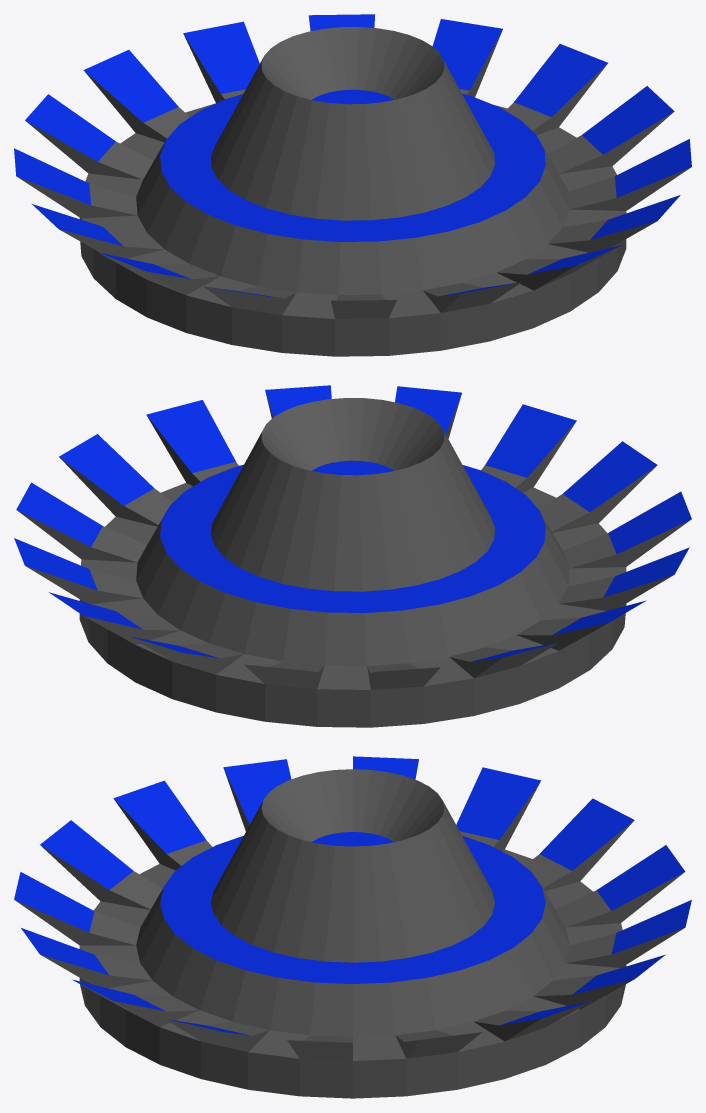
The model's file is ObjectSpawner.fbx.
3 renders of one model, top to bottom at view 1: azimuth 30°, elevation 25°; view 2: azimuth 150°, elevation 25°; view 3: azimuth 270°, elevation 25°, orthographic.
Visible parts, largest first — view 1: ObjectSpawner; view 2: ObjectSpawner; view 3: ObjectSpawner.
Part boxes in pixels (x1,y1,x2,y2): ObjectSpawner: (14,14,691,356); ObjectSpawner: (14,385,691,727); ObjectSpawner: (14,756,691,1098).
Size of the model in its own units: 686 by 196 by 686.
